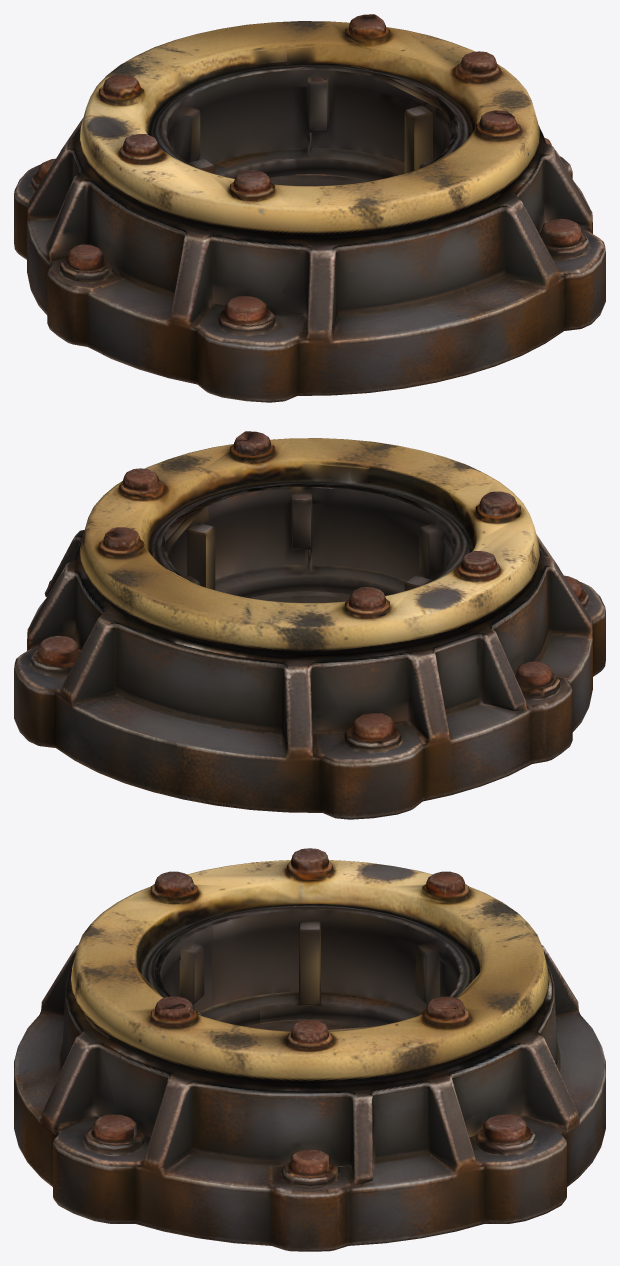
File: hole_final.glb
3 views of the same model, one above another, from view 1: azimuth 30°, elevation 25°; view 2: azimuth 150°, elevation 25°; view 3: azimuth 270°, elevation 25° (orthographic). The views are drawn at different scales.
Visible parts, largest first — view 1: mesh_rep_0_ori_repair; view 2: mesh_rep_0_ori_repair; view 3: mesh_rep_0_ori_repair.
Part boxes in pixels (x1,y1,x2,y2): mesh_rep_0_ori_repair: (14,14,605,402); mesh_rep_0_ori_repair: (14,431,605,819); mesh_rep_0_ori_repair: (14,848,605,1251).
Bounding box in the file's own units: 1.1 × 0.3684 × 1.07.
1 material, 1 textured.
